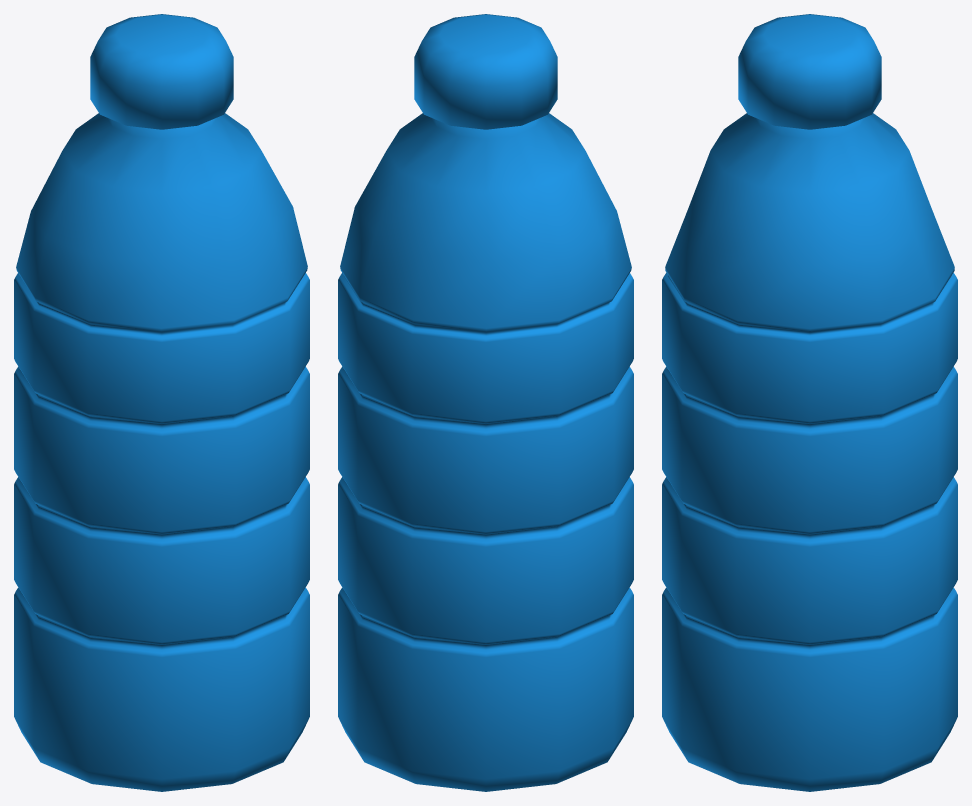
The model's file is garrafa.fbx.
3 renders of one model, left to right at view 1: azimuth 30°, elevation 25°; view 2: azimuth 150°, elevation 25°; view 3: azimuth 270°, elevation 25°, orthographic.
Visible parts, largest first — view 1: Garrafa; view 2: Garrafa; view 3: Garrafa.
Part boxes in pixels (bbox=[...]): Garrafa: bbox=[14, 14, 309, 791]; Garrafa: bbox=[338, 14, 633, 791]; Garrafa: bbox=[662, 14, 957, 791].
Bounding box in the file's own units: 49.59 × 130 × 49.59.
